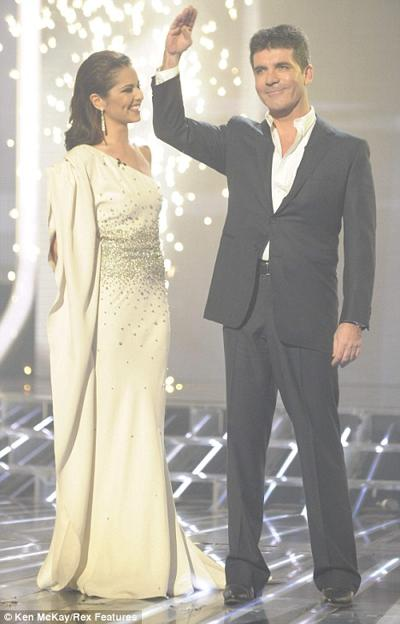person: (156, 7, 375, 616)
